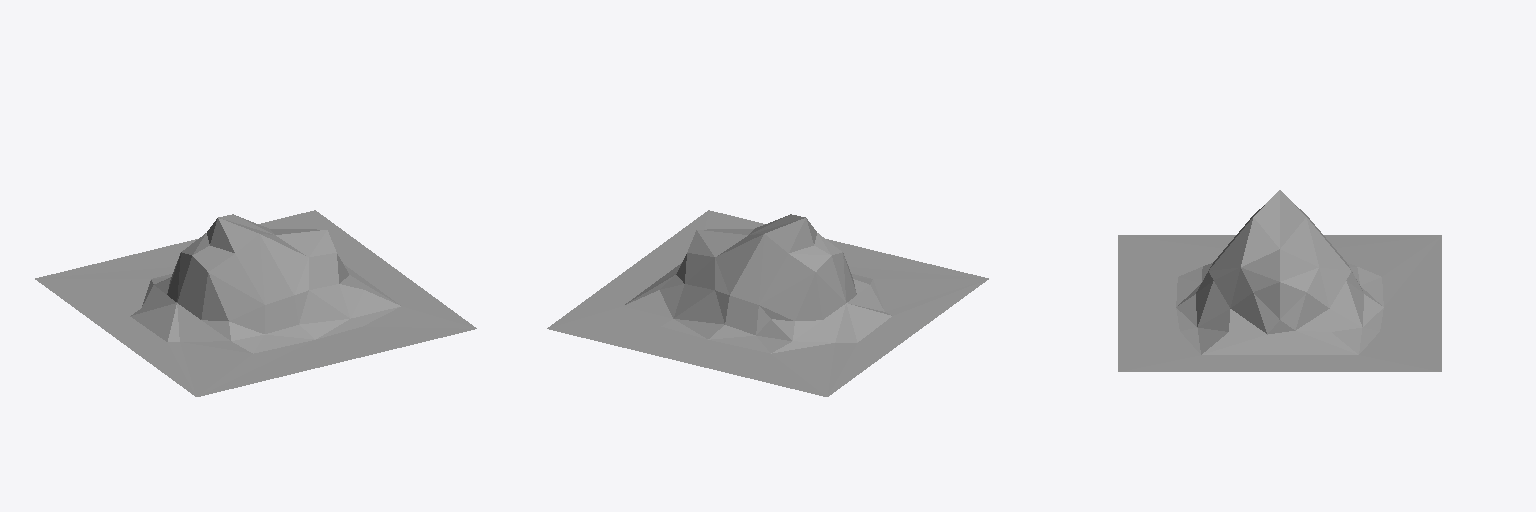
The model's file is Terrain2.obj.
3 views of the same model, side by side, from view 1: azimuth 30°, elevation 25°; view 2: azimuth 150°, elevation 25°; view 3: azimuth 270°, elevation 25° (orthographic).
Visible parts, largest first — view 1: Plane.002; view 2: Plane.002; view 3: Plane.002.
Part boxes in pixels (x1,y1,x2,y2): Plane.002: (35, 210, 476, 396); Plane.002: (547, 210, 988, 396); Plane.002: (1118, 190, 1441, 371).
Bounding box in the file's own units: 4.13 × 1.34 × 4.13.